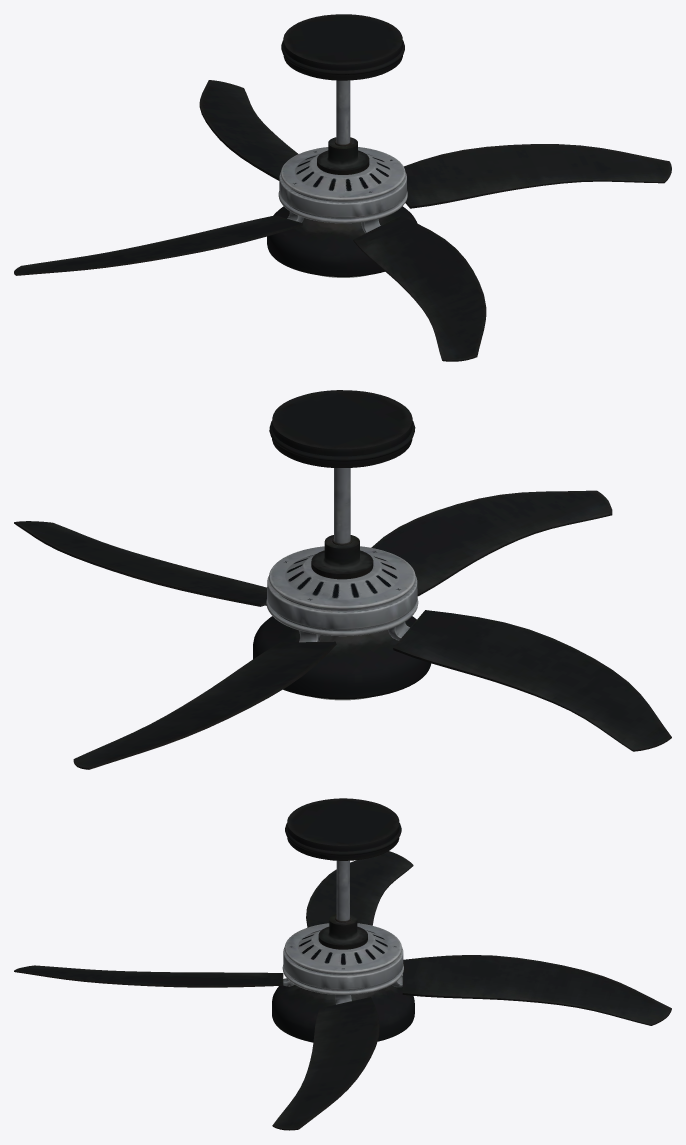
Rendered from ceiling_fan.glb.
3 views of the same model, one above another, from view 1: azimuth 30°, elevation 25°; view 2: azimuth 150°, elevation 25°; view 3: azimuth 270°, elevation 25° (orthographic). The views are drawn at different scales.
Visible parts, largest first — view 1: ceiling_fan; view 2: ceiling_fan; view 3: ceiling_fan.
Boxes of the visible parts, x1,y1,x2,y2 form: ceiling_fan: (14,14,671,361); ceiling_fan: (14,390,671,769); ceiling_fan: (14,798,671,1130).
Bounding box in the file's own units: 1.46 × 0.5163 × 1.46.
1 material, 1 textured.
